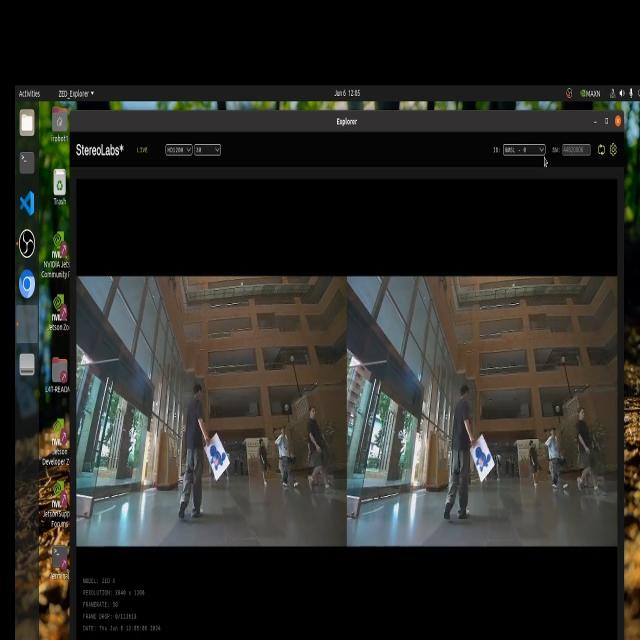blue: (207, 441, 224, 476), (475, 448, 493, 478)
